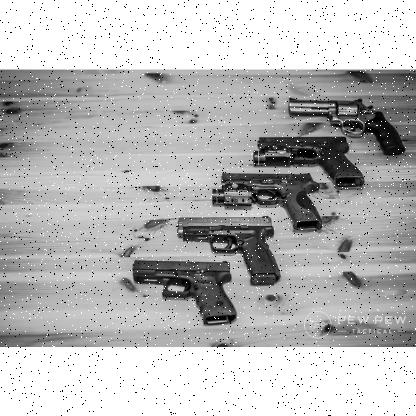gun: (286, 94, 404, 156), (173, 214, 280, 282), (132, 258, 235, 324), (216, 172, 328, 228), (250, 134, 364, 186)
